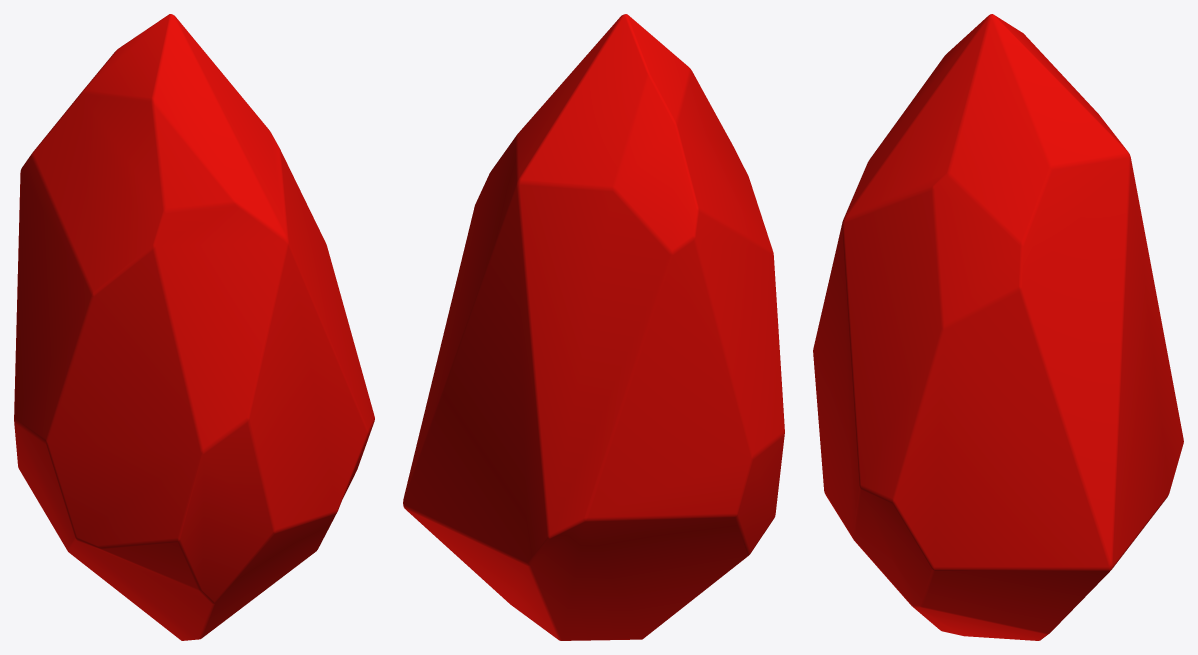
Rendered from RedCrystal_A.fbx.
The picture shows the model from 3 angles, left to right: view 1: azimuth 30°, elevation 25°; view 2: azimuth 150°, elevation 25°; view 3: azimuth 270°, elevation 25°; orthographic projection. The views are drawn at different scales.
Parts seen in each view (by area): view 1: RedCrystal_A; view 2: RedCrystal_A; view 3: RedCrystal_A.
Part boxes in pixels (box(x1,y1,x2,y2)): RedCrystal_A: box(14, 14, 374, 640); RedCrystal_A: box(403, 14, 784, 640); RedCrystal_A: box(813, 14, 1183, 640).
Size of the model in its own units: 54.46 by 107 by 58.03.
